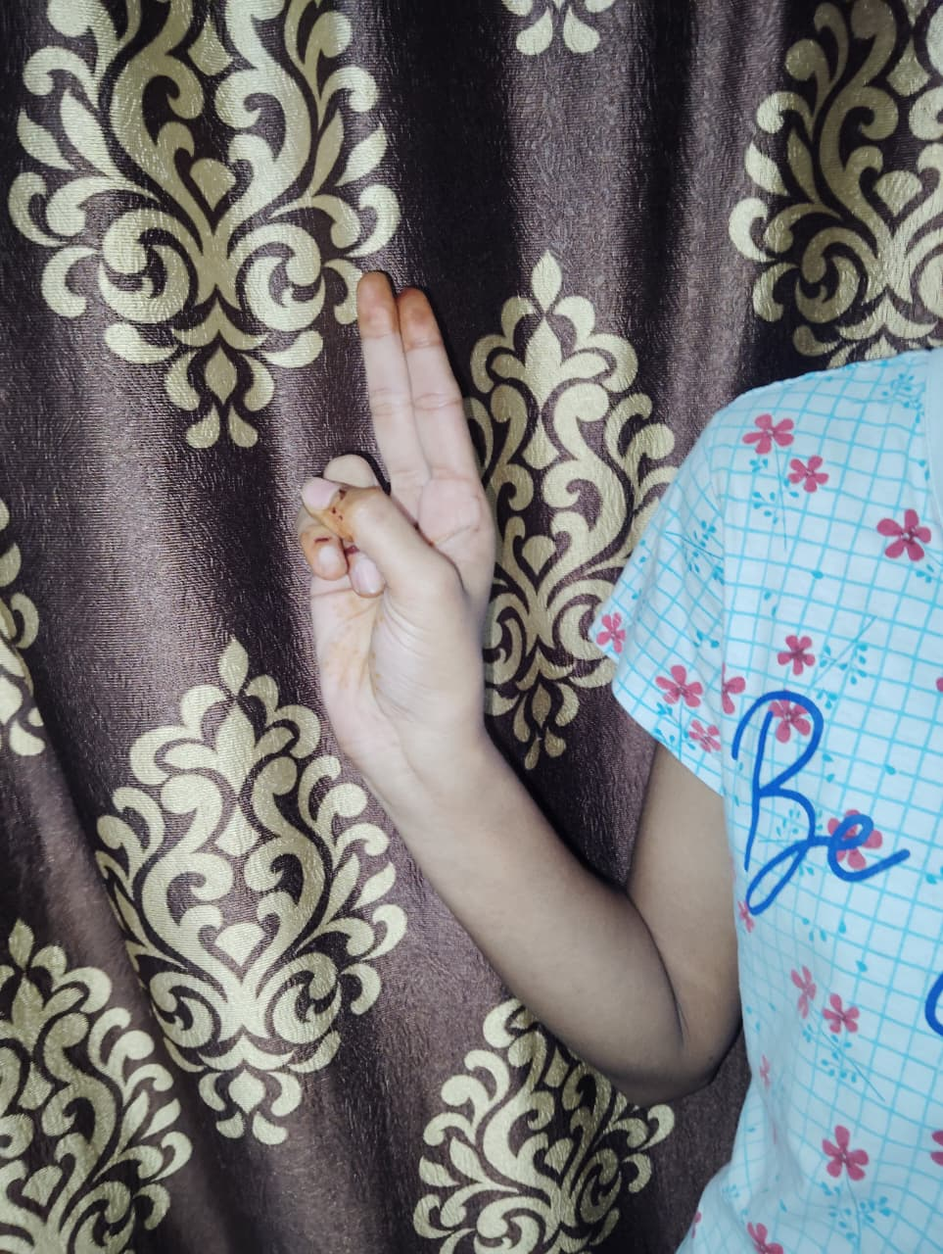U: (298, 270, 493, 752)
